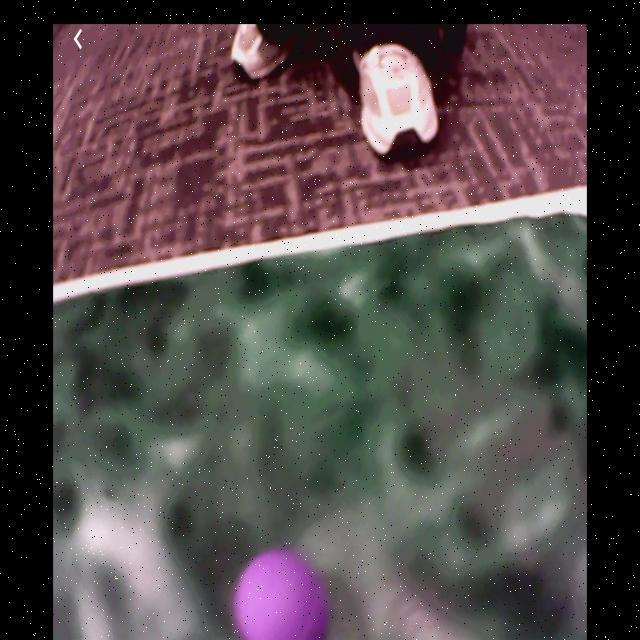ball: (232, 552, 327, 640)
